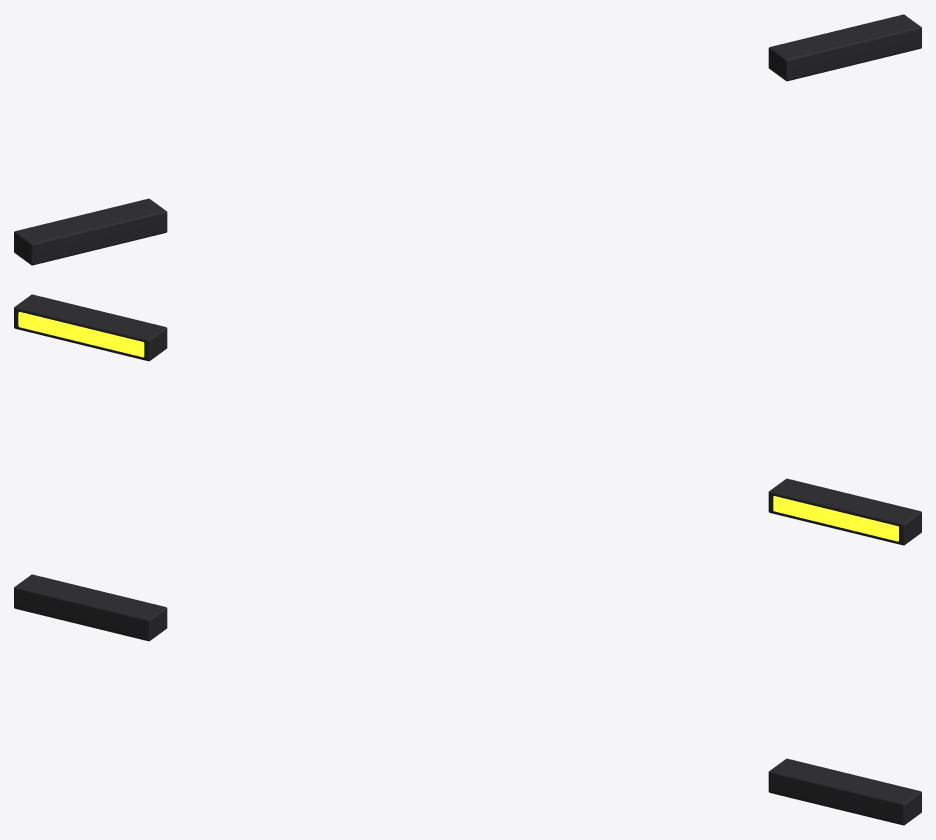
The model's file is indicators.glb.
3 views of the same model, one above another, from view 1: azimuth 30°, elevation 25°; view 2: azimuth 150°, elevation 25°; view 3: azimuth 330°, elevation 25° (orthographic).
Visible parts, largest first — view 1: INDICATOR_POD_0.72, INDICATOR_POD_-0.72; view 2: INDICATOR_POD_-0.72, INDICATOR_POD_0.72, INDICATOR_GUIDE_0.72, INDICATOR_GUIDE_-0.72; view 3: INDICATOR_POD_0.72, INDICATOR_POD_-0.72.
Boxes of the visible parts, <box> form: INDICATOR_POD_0.72: <box>768,14,921,81</box>; INDICATOR_POD_-0.72: <box>14,198,167,265</box>; INDICATOR_POD_-0.72: <box>768,478,921,545</box>; INDICATOR_POD_0.72: <box>14,294,167,361</box>; INDICATOR_GUIDE_0.72: <box>18,312,144,357</box>; INDICATOR_GUIDE_-0.72: <box>773,496,898,541</box>; INDICATOR_POD_0.72: <box>768,758,921,825</box>; INDICATOR_POD_-0.72: <box>14,574,167,641</box>.
Size of the model in its own units: 1.7 by 0.04 by 0.062.
